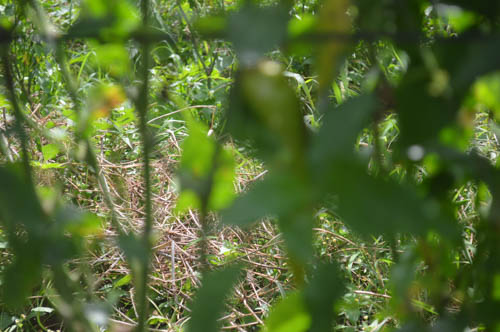ChiliPepper: (243, 65, 314, 235)
